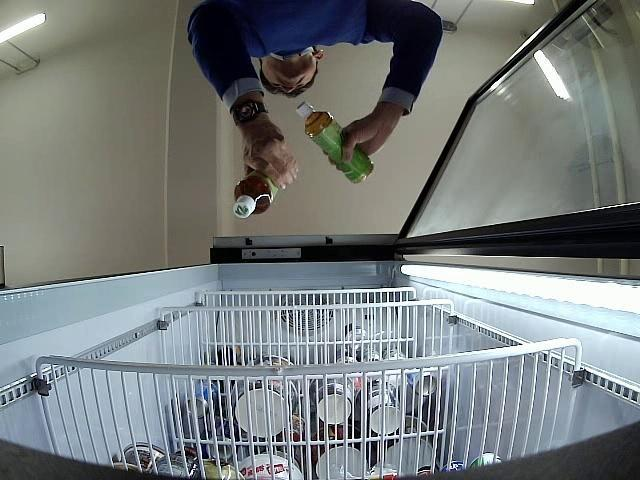19_17cha: (295, 100, 374, 184), (232, 170, 278, 216)
